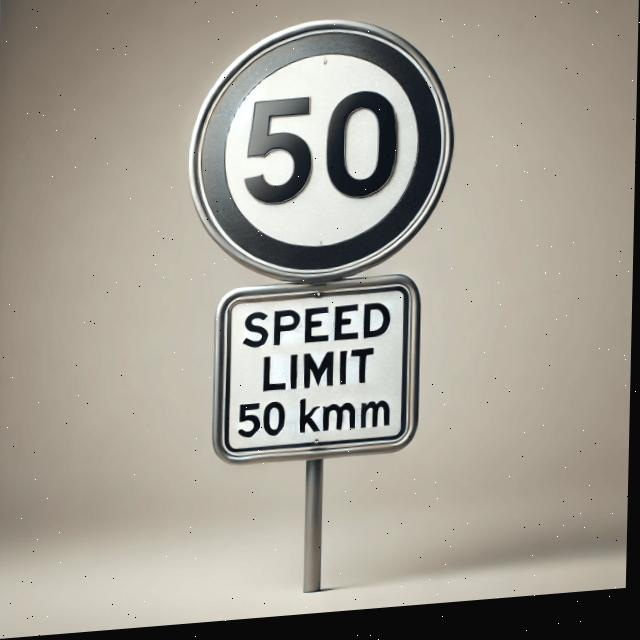Speed limit 50: (186, 13, 462, 295)
